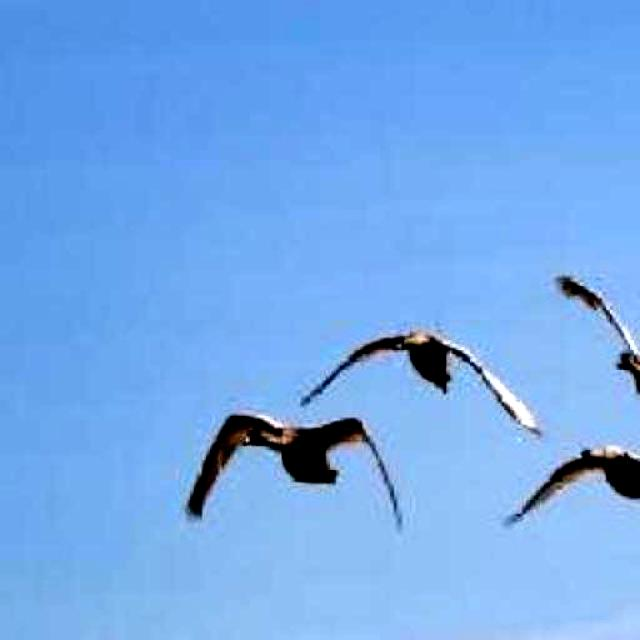airplane: (300, 331, 546, 439), (186, 414, 402, 530), (500, 449, 640, 562), (554, 275, 640, 421)
